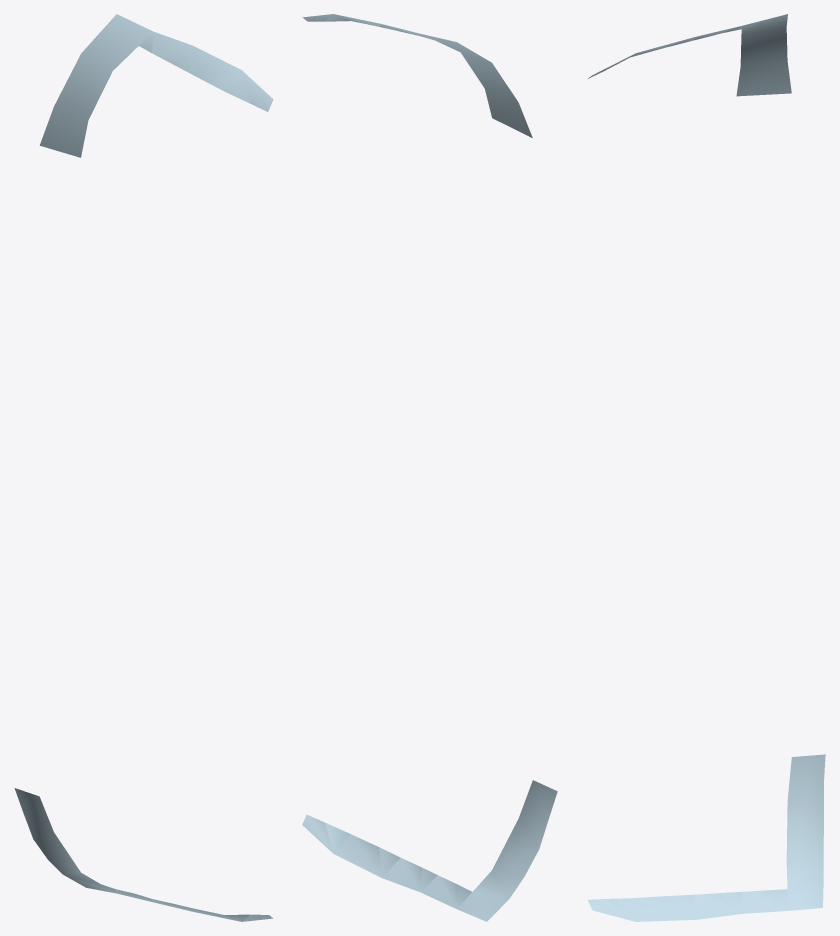
File: backLightsBrake.glb
3 views of the same model, side by side, from view 1: azimuth 30°, elevation 25°; view 2: azimuth 210°, elevation 25°; view 3: azimuth 270°, elevation 25° (orthographic). The views are drawn at different scales.
Parts seen in each view (by area): view 1: shadeRed_001; view 2: shadeRed_001; view 3: shadeRed_001.
Part boxes in pixels (x1,y1,x2,y2): shadeRed_001: (14, 14, 273, 921); shadeRed_001: (302, 14, 557, 921); shadeRed_001: (587, 14, 825, 921).
Size of the model in its own units: 2.45 by 14.28 by 3.44.
